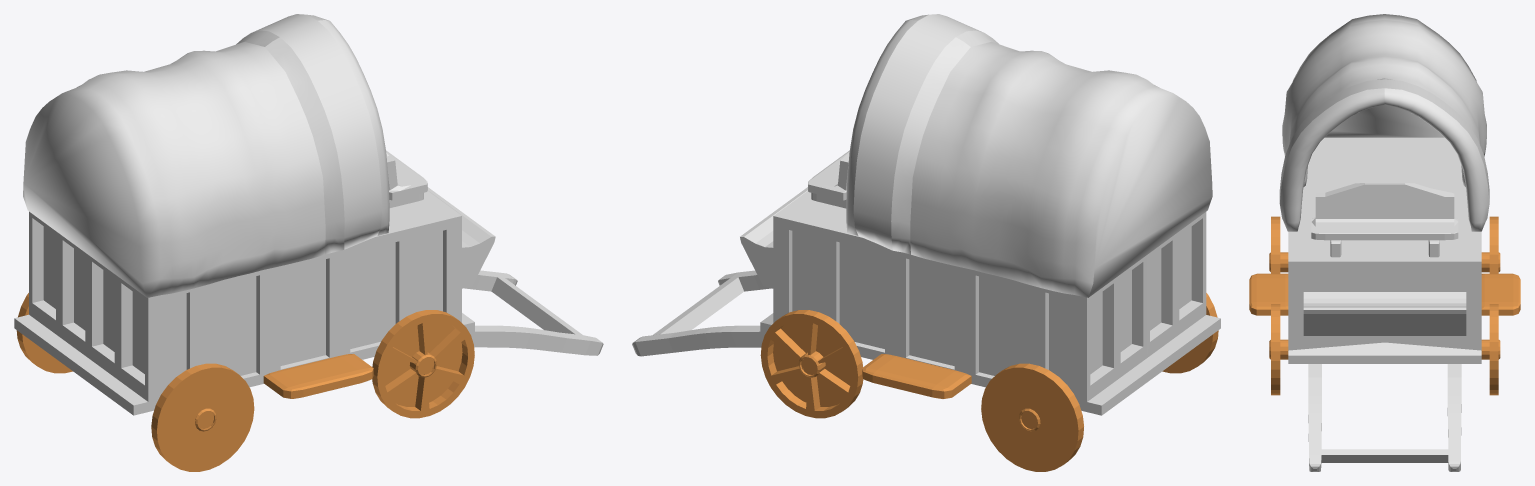
Rendered from Wagon.fbx.
The picture shows the model from 3 angles, left to right: view 1: azimuth 30°, elevation 25°; view 2: azimuth 150°, elevation 25°; view 3: azimuth 270°, elevation 25°; orthographic projection. The views are drawn at different scales.
Visible parts, largest first — view 1: Cube.062; view 2: Cube.062; view 3: Cube.062.
Boxes of the visible parts, x1,y1,x2,y2 form: Cube.062: [14, 14, 603, 471]; Cube.062: [632, 14, 1220, 471]; Cube.062: [1249, 14, 1520, 471].
Bounding box in the file's own units: 707 × 500 × 423.
